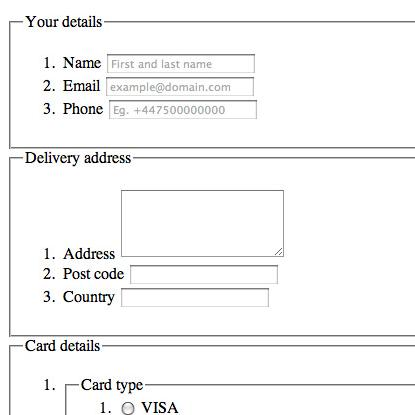field: (118, 189, 284, 259), (115, 284, 275, 310), (102, 76, 256, 99), (103, 51, 256, 74), (124, 264, 279, 286), (104, 99, 257, 120)
field_with_label: (64, 187, 286, 261), (62, 283, 276, 311), (62, 48, 258, 77), (64, 262, 280, 287), (62, 73, 258, 100), (63, 97, 260, 122)
radio: (121, 401, 138, 415)
